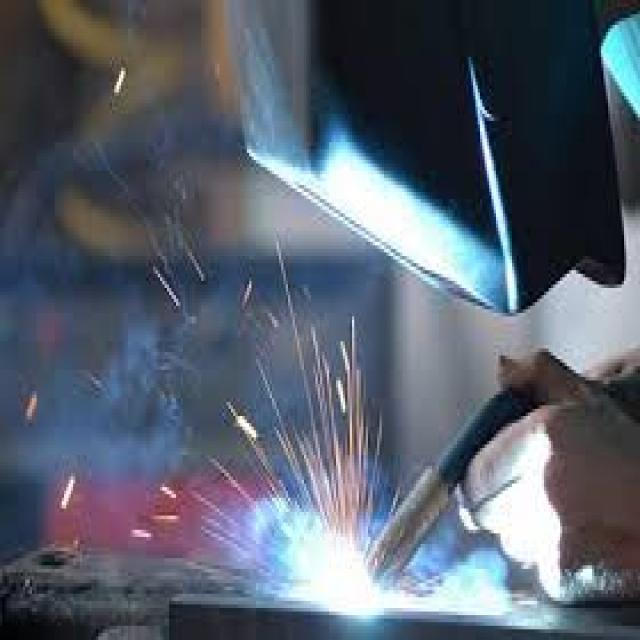welding: (311, 532, 377, 619)
